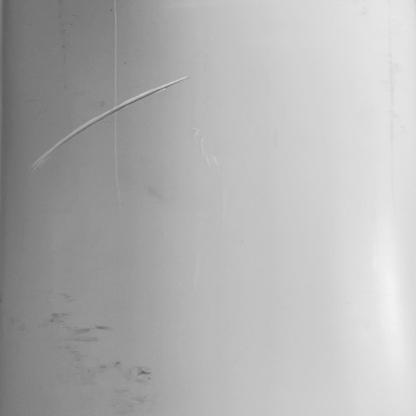sunshang: (34, 76, 186, 167)
